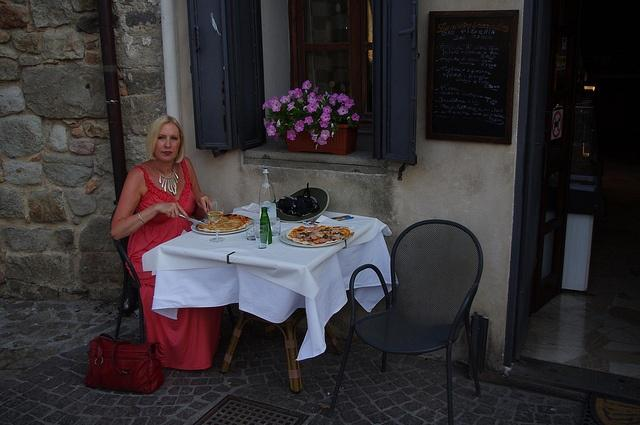Kursi: (326, 217, 484, 424)
